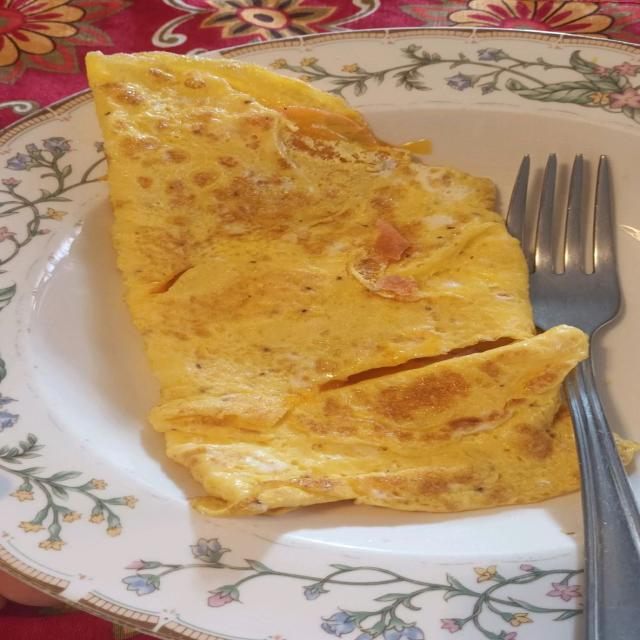omelette: (87, 53, 586, 515)
